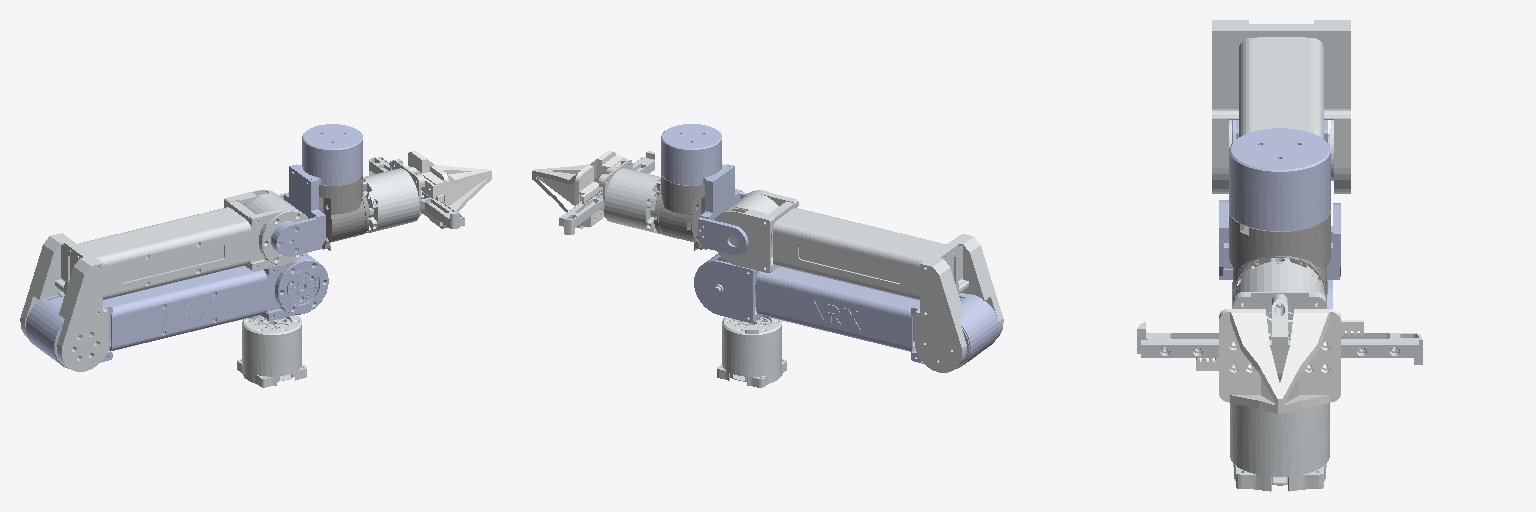
URDF robot description (R5a):
<?xml version="1.0" encoding="utf-8"?>
<!-- This URDF was automatically created by SolidWorks to URDF Exporter! Originally created by [author] ([email redacted]) 
     Commit Version: 1.6.0-4-g7f85cfe  Build Version: 1.6.7995.38578
     For more information, please see http://wiki.ros.org/sw_urdf_exporter -->
<robot
  name="R5a">
  <link
    name="base_link">
    <inertial>
      <origin
        xyz="-0.00013359 6.672E-05 0.031672"
        rpy="0 0 0" />
      <mass
        value="0.42272" />
      <inertia
        ixx="0.00019"
        ixy="0.00000"
        ixz="0.00000"
        iyy="0.00019"
        iyz="0.00000"
        izz="0.00020" />
    </inertial>
    <visual>
      <origin
        xyz="0 0 0"
        rpy="0 0 0" />
      <geometry>
        <mesh
          filename="meshes/base_link.STL" />
      </geometry>
      <material
        name="">
        <color
          rgba="0.89804 0.91765 0.92941 1" />
      </material>
    </visual>
    <collision>
      <origin
        xyz="0 0 0"
        rpy="0 0 0" />
      <geometry>
        <mesh
          filename="meshes/base_link.STL" />
      </geometry>
    </collision>
  </link>
  <link
    name="link1">
    <inertial>
      <origin
        xyz="0.0050395 -0.0077407 0.020897"
        rpy="0 0 0" />
      <mass
        value="0.096804" />
      <inertia
        ixx="0.00011"
        ixy="-0.00001"
        ixz="0.00001"
        iyy="0.00005"
        iyz="-0.00001"
        izz="0.00010" />
    </inertial>
    <visual>
      <origin
        xyz="0 0 0"
        rpy="0 0 0" />
      <geometry>
        <mesh
          filename="meshes/link1.STL" />
      </geometry>
      <material
        name="">
        <color
          rgba="0.56471 0.56471 0.56471 1" />
      </material>
    </visual>
    <collision>
      <origin
        xyz="0 0 0"
        rpy="0 0 0" />
      <geometry>
        <mesh
          filename="meshes/link1.STL" />
      </geometry>
    </collision>
  </link>
  <joint
    name="joint1"
    type="revolute">
    <origin
      xyz="0 0 0.0565"
      rpy="0 0 0" />
    <parent
      link="base_link" />
    <child
      link="link1" />
    <axis
      xyz="0 0 1" />
    <limit
      lower="-10"
      upper="10"
      effort="100"
      velocity="1000" />
  </joint>
  <link
    name="link2">
    <inertial>
      <origin
        xyz="-0.12992 -0.0011822 -2.6366E-05"
        rpy="0 0 0" />
      <mass
        value="1.1988" />
      <inertia
        ixx="0.00065"
        ixy="0.00008"
        ixz="0.00000"
        iyy="0.01647"
        iyz="0.00000"
        izz="0.01646" />
    </inertial>
    <visual>
      <origin
        xyz="0 0 0"
        rpy="0 0 0" />
      <geometry>
        <mesh
          filename="meshes/link2.STL" />
      </geometry>
      <material
        name="">
        <color
          rgba="0.79216 0.81961 0.93333 1" />
      </material>
    </visual>
    <collision>
      <origin
        xyz="0 0 0"
        rpy="0 0 0" />
      <geometry>
        <mesh
          filename="meshes/link2.STL" />
      </geometry>
    </collision>
  </link>
  <joint
    name="joint2"
    type="revolute">
    <origin
      xyz="0.02 0 0.047"
      rpy="0 0 0" />
    <parent
      link="link1" />
    <child
      link="link2" />
    <axis
      xyz="0 1 0" />
    <limit
      lower="-10"
      upper="10"
      effort="100"
      velocity="1000" />
  </joint>
  <link
    name="link3">
    <inertial>
      <origin
        xyz="0.16181 0.0011723 -0.05455"
        rpy="0 0 0" />
      <mass
        value="0.84082" />
      <inertia
        ixx="0.00082"
        ixy="0.00008"
        ixz="-0.00074"
        iyy="0.00849"
        iyz="0.00001"
        izz="0.00834" />
    </inertial>
    <visual>
      <origin
        xyz="0 0 0"
        rpy="0 0 0" />
      <geometry>
        <mesh
          filename="meshes/link3.STL" />
      </geometry>
      <material
        name="">
        <color
          rgba="0.89804 0.91765 0.92941 1" />
      </material>
    </visual>
    <collision>
      <origin
        xyz="0 0 0"
        rpy="0 0 0" />
      <geometry>
        <mesh
          filename="meshes/link3.STL" />
      </geometry>
    </collision>
  </link>
  <joint
    name="joint3"
    type="revolute">
    <origin
      xyz="-0.264 0 0"
      rpy="-3.1416 0 0" />
    <parent
      link="link2" />
    <child
      link="link3" />
    <axis
      xyz="0 1 0" />
    <limit
      lower="-10"
      upper="10"
      effort="100"
      velocity="1000" />
  </joint>
  <link
    name="link4">
    <inertial>
      <origin
        xyz="0.041751 0.0054236 -0.03337"
        rpy="0 0 0" />
      <mass
        value="0.12432" />
      <inertia
        ixx="0.00022"
        ixy="-0.00002"
        ixz="-0.00009"
        iyy="0.00025"
        iyz="0.00002"
        izz="0.00017" />
    </inertial>
    <visual>
      <origin
        xyz="0 0 0"
        rpy="0 0 0" />
      <geometry>
        <mesh
          filename="meshes/link4.STL" />
      </geometry>
      <material
        name="">
        <color
          rgba="0.79216 0.81961 0.93333 1" />
      </material>
    </visual>
    <collision>
      <origin
        xyz="0 0 0"
        rpy="0 0 0" />
      <geometry>
        <mesh
          filename="meshes/link4.STL" />
      </geometry>
    </collision>
  </link>
  <joint
    name="joint4"
    type="revolute">
    <origin
      xyz="0.245 -5E-05 -0.06"
      rpy="0 0 0" />
    <parent
      link="link3" />
    <child
      link="link4" />
    <axis
      xyz="0 1 0" />
    <limit
      lower="-10"
      upper="10"
      effort="100"
      velocity="1000" />
  </joint>
  <link
    name="link5">
    <inertial>
      <origin
        xyz="-8.3435E-05 -1.5428E-05 0.052216"
        rpy="0 0 0" />
      <mass
        value="0.63601" />
      <inertia
        ixx="0.00084"
        ixy="0.00000"
        ixz="0.00007"
        iyy="0.00082"
        iyz="0.00000"
        izz="0.00026" />
    </inertial>
    <visual>
      <origin
        xyz="0 0 0"
        rpy="0 0 0" />
      <geometry>
        <mesh
          filename="meshes/link5.STL" />
      </geometry>
      <material
        name="">
        <color
          rgba="0.69804 0.69804 0.69804 1" />
      </material>
    </visual>
    <collision>
      <origin
        xyz="0 0 0"
        rpy="0 0 0" />
      <geometry>
        <mesh
          filename="meshes/link5.STL" />
      </geometry>
    </collision>
  </link>
  <joint
    name="joint5"
    type="revolute">
    <origin
      xyz="0.073914 5E-05 -0.083391"
      rpy="0 0 0" />
    <parent
      link="link4" />
    <child
      link="link5" />
    <axis
      xyz="0 0 1" />
    <limit
      lower="-10"
      upper="10"
      effort="100"
      velocity="1000" />
  </joint>
  <link
    name="link6">
    <inertial>
      <origin
        xyz="0.041697 2.4368E-05 0.00014464"
        rpy="0 0 0" />
      <mass
        value="0.44089" />
      <inertia
        ixx="0.00038"
        ixy="0.00000"
        ixz="0.00000"
        iyy="0.00028"
        iyz="0.00000"
        izz="0.00050" />
    </inertial>
    <visual>
      <origin
        xyz="0 0 0"
        rpy="0 0 0" />
      <geometry>
        <mesh
          filename="meshes/link6.STL" />
      </geometry>
      <material
        name="">
        <color
          rgba="0.89804 0.91765 0.92941 1" />
      </material>
    </visual>
    <collision>
      <origin
        xyz="0 0 0"
        rpy="0 0 0" />
      <geometry>
        <mesh
          filename="meshes/link6.STL" />
      </geometry>
    </collision>
  </link>
  <joint
    name="joint6"
    type="revolute">
    <origin
      xyz="0.025286 0 0.083391"
      rpy="3.1416 0 0" />
    <parent
      link="link5" />
    <child
      link="link6" />
    <axis
      xyz="1 0 0" />
    <limit
      lower="-10"
      upper="10"
      effort="100"
      velocity="1000" />
  </joint>
  <link
    name="link7">
    <inertial>
      <origin
        xyz="-0.00035522 -0.007827 -0.0029883"
        rpy="0 0 0" />
      <mass
        value="0.064798" />
      <inertia
        ixx="0.00002"
        ixy="0.00000"
        ixz="0.00000"
        iyy="0.00003"
        iyz="0.00000"
        izz="0.00003" />
    </inertial>
    <visual>
      <origin
        xyz="0 0 0"
        rpy="0 0 0" />
      <geometry>
        <mesh
          filename="meshes/link7.STL" />
      </geometry>
      <material
        name="">
        <color
          rgba="1 1 1 1" />
      </material>
    </visual>
    <collision>
      <origin
        xyz="0 0 0"
        rpy="0 0 0" />
      <geometry>
        <mesh
          filename="meshes/link7.STL" />
      </geometry>
    </collision>
  </link>
  <joint
    name="joint7"
    type="prismatic">
    <origin
      xyz="0.08657 0.024896 -0.0002436"
      rpy="0 0 0" />
    <parent
      link="link6" />
    <child
      link="link7" />
    <axis
      xyz="0 1 0" />
    <limit
      lower="0"
      upper="0.044"
      effort="100"
      velocity="1000" />
  </joint>
  <link
    name="link8">
    <inertial>
      <origin
        xyz="-0.000355223470270755 0.00782768751820277 0.00242005642879778"
        rpy="0 0 0" />
      <mass
        value="0.0647981725781684" />
      <inertia
        ixx="0.00002"
        ixy="0.00000"
        ixz="0.00000"
        iyy="0.00003"
        iyz="0.00000"
        izz="0.00003" />
    </inertial>
    <visual>
      <origin
        xyz="0 0 0"
        rpy="0 0 0" />
      <geometry>
        <mesh
          filename="meshes/link8.STL" />
      </geometry>
      <material
        name="">
        <color
          rgba="1 1 1 1" />
      </material>
    </visual>
    <collision>
      <origin
        xyz="0 0 0"
        rpy="0 0 0" />
      <geometry>
        <mesh
          filename="meshes/link8.STL" />
      </geometry>
    </collision>
  </link>
  <joint
    name="joint8"
    type="prismatic">
    <origin
      xyz="0.08657 -0.0249 -0.00024366"
      rpy="0 0 0" />
    <parent
      link="link6" />
    <child
      link="link8" />
    <axis
      xyz="0 -1 0" />
    <limit
      lower="0"
      upper="0.044"
      effort="100"
      velocity="1000" />
  </joint>
</robot>

--- What the picture shows (computed from the rendered views, not written in the file) ---
The picture shows the robot from 3 angles, left to right: view 1: azimuth 30°, elevation 25°; view 2: azimuth 150°, elevation 25°; view 3: azimuth 270°, elevation 25°; orthographic projection.
Model R5a with 9 links and 8 joints (6 revolute, 2 prismatic), rooted at base_link, posed every joint at zero.
Visible links, largest first — view 1: link3, link2, link4, link6, base_link, link5, link8, link7; view 2: link3, link2, link4, link6, base_link, link5, link7, link8; view 3: link3, link4, link6, base_link, link8, link7, link5.
Link boxes in pixels (x1,y1,x2,y2): link3: (20,190,307,371); link2: (26,253,328,368); link4: (272,124,362,256); link6: (363,157,464,232); base_link: (237,315,306,387); link5: (319,175,369,250); link8: (390,160,491,228); link7: (405,151,486,225); link3: (714,190,1003,372); link2: (694,254,998,368); link4: (661,124,748,254); link6: (559,151,660,234); base_link: (717,316,786,387); link5: (654,174,704,250); link7: (532,165,603,228); link8: (534,151,624,204); link3: (1212,20,1350,193); link4: (1219,128,1340,279); link6: (1137,258,1422,382); base_link: (1230,403,1329,491); link8: (1219,309,1363,413); link7: (1196,309,1340,413); link5: (1229,211,1330,299).
Bounding box of the posed robot: 0.5317 × 0.174 × 0.25 m (x, y, z).
Meshes: 9 distinct files referenced, 8 mesh visuals loaded (8 binary STL); not drawn: 1 (reference not matched to a file when rendering).